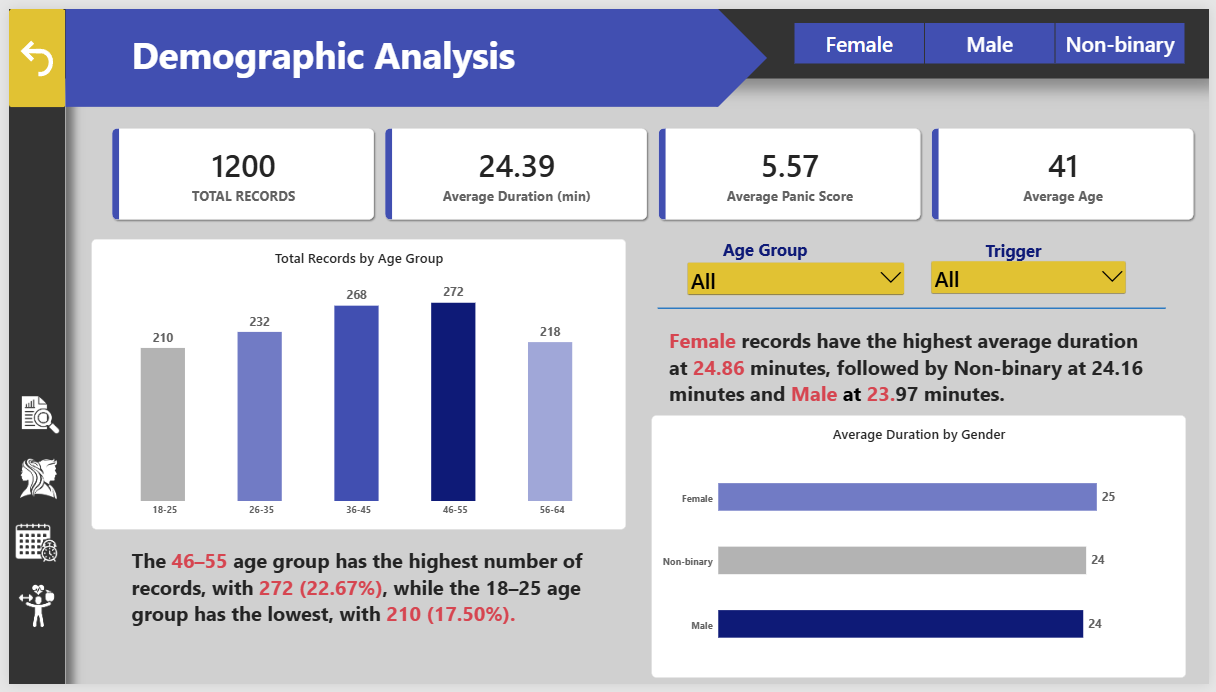

The page's visual inventory and layout, read from the dashboard file:
{"tool":"powerbi","page":{"name":"Age & Gender","canvas":[1920,1080],"ordinal":1},"visuals":[{"type":"shape","box":[0,0,90,1080],"z":0},{"type":"shape","box":[55,0,1865,111.2],"z":1000},{"type":"shape","box":[1037.1,450,812.5,57.5],"z":2000},{"type":"cardVisual","fields":{"Data":["MEASURABLE_TABLE.TOTAL RECORDS","MEASURABLE_TABLE.AVG_DURATION","MEASURABLE_TABLE.AVG_PANIC_SCORE","MEASURABLE_TABLE.Average Age"]},"box":[160,185,1740,156],"z":3000},{"type":"clusteredBarChart","title":"Average Duration by Gender","fields":{"Category":["PANIC_ATTACK_DATA.GENDER"],"Y":["MEASURABLE_TABLE.AVG_DURATION"]},"box":[1027.5,650,855,420],"z":4000},{"type":"slicer","fields":{"Values":["PANIC_ATTACK_DATA.GENDER"]},"box":[1235,20,664.2,69.2],"z":5000},{"type":"slicer","fields":{"Values":["PANIC_ATTACK_DATA.AGE_GROUP"]},"box":[1079.6,399.2,358,92],"z":6000},{"type":"slicer","fields":{"Values":["PANIC_ATTACK_DATA.TRIGGER_REASON"]},"box":[1469,397.9,322.5,67.5],"z":7000},{"type":"textbox","box":[1562.5,367.5,230,50],"z":8000},{"type":"textbox","box":[1142,366.9,326,49],"z":9000},{"type":"textbox","box":[1055,507.5,776,160],"z":10000},{"type":"textbox","box":[195,860,815,147.5],"z":11000},{"type":"shape","box":[90,0,1123.3,156.7],"z":12000},{"type":"textbox","box":[195,32.5,884,88],"z":13000},{"type":"columnChart","title":"Total Records by Age Group","fields":{"Category":["PANIC_ATTACK_DATA.AGE_GROUP"],"Y":["MEASURABLE_TABLE.TOTAL RECORDS"]},"box":[132.5,367.5,855,465],"z":14000},{"type":"actionButton","box":[0,0,90,157.5],"z":15000},{"type":"group","id":"g1","title":"Group 1","box":[0,600,92,404],"z":15001},{"type":"image","box":[2,698,90,102],"z":16000,"group":"g1"},{"type":"image","box":[2,600,90,102],"z":17000,"group":"g1"},{"type":"image","box":[0,800,90,102],"z":18000,"group":"g1"},{"type":"image","box":[0,902,90,102],"z":19000,"group":"g1"}]}

Visuals, with their boxes on the page's 1920x1080 design canvas (x1, y1, x2, y2). These are canvas units, not pixel positions in the 1216x692 screenshot, which may show the page scaled, cropped or inside an application window:
shape: [0, 0, 90, 1080]
shape: [55, 0, 1920, 111]
shape: [1037, 450, 1850, 508]
cardVisual - MEASURABLE_TABLE.TOTAL RECORDS x MEASURABLE_TABLE.AVG_DURATION: [160, 185, 1900, 341]
"Average Duration by Gender" clusteredBarChart: [1028, 650, 1882, 1070]
slicer - PANIC_ATTACK_DATA.GENDER: [1235, 20, 1899, 89]
slicer - PANIC_ATTACK_DATA.AGE_GROUP: [1080, 399, 1438, 491]
slicer - PANIC_ATTACK_DATA.TRIGGER_REASON: [1469, 398, 1792, 465]
textbox: [1562, 368, 1792, 418]
textbox: [1142, 367, 1468, 416]
textbox: [1055, 508, 1831, 668]
textbox: [195, 860, 1010, 1008]
shape: [90, 0, 1213, 157]
textbox: [195, 32, 1079, 120]
"Total Records by Age Group" columnChart: [132, 368, 988, 832]
actionButton: [0, 0, 90, 158]
"Group 1" group: [0, 600, 92, 1004]
image: [2, 698, 92, 800]
image: [2, 600, 92, 702]
image: [0, 800, 90, 902]
image: [0, 902, 90, 1004]
